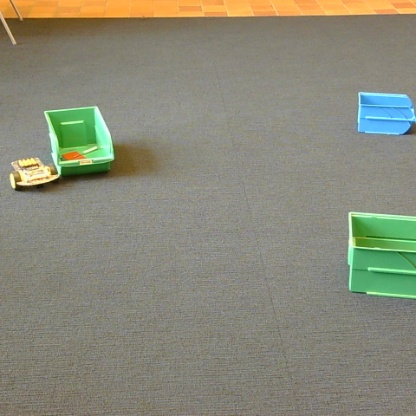robot: (9, 157, 59, 189)
